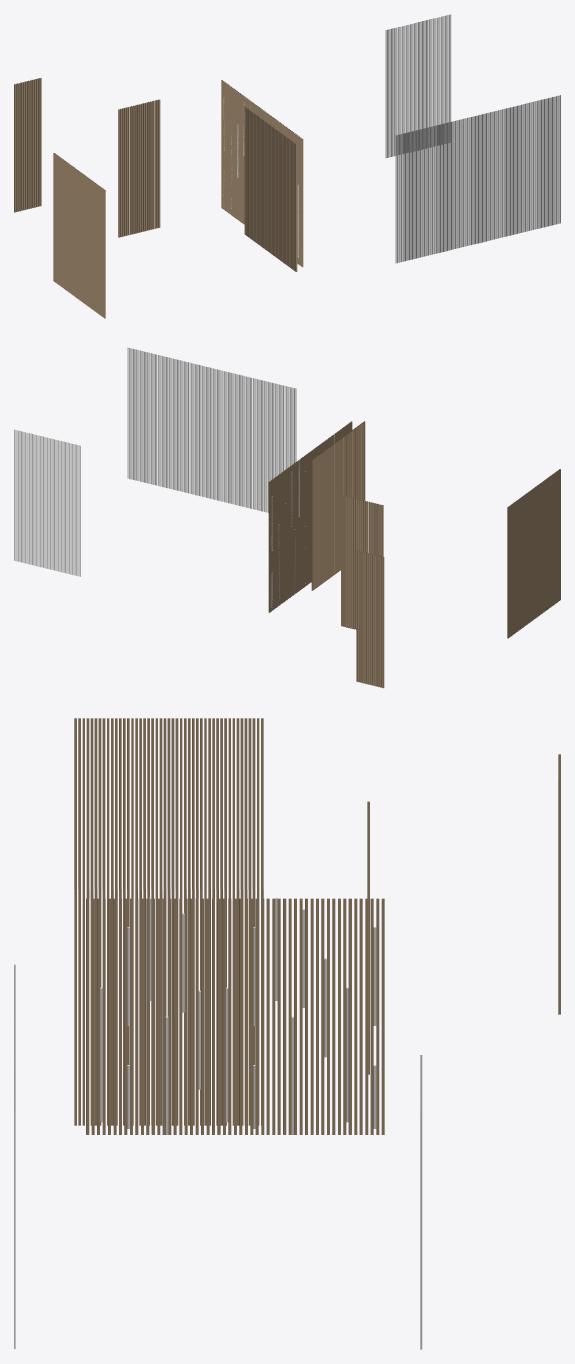
The model's file is Wall_Panels.fbx.
The picture shows the model from 3 angles, top to bottom: view 1: azimuth 30°, elevation 25°; view 2: azimuth 150°, elevation 25°; view 3: azimuth 270°, elevation 25°; orthographic projection. The views are drawn at different scales.
Visible parts, largest first — view 1: Wall_Panels; view 2: Wall_Panels; view 3: Wall_Panels.
Boxes of the visible parts, box(x1,y1,x2,y2) form: Wall_Panels: box(14, 14, 560, 318); Wall_Panels: box(14, 347, 560, 688); Wall_Panels: box(14, 718, 560, 1349).
Bounding box in the file's own units: 1080 × 300 × 630.
